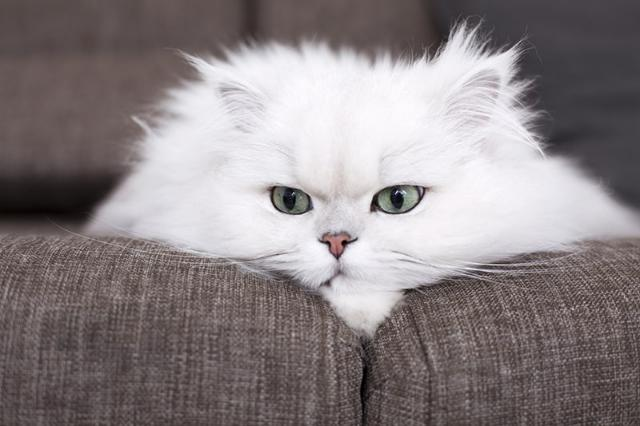cat: (109, 11, 566, 369)
